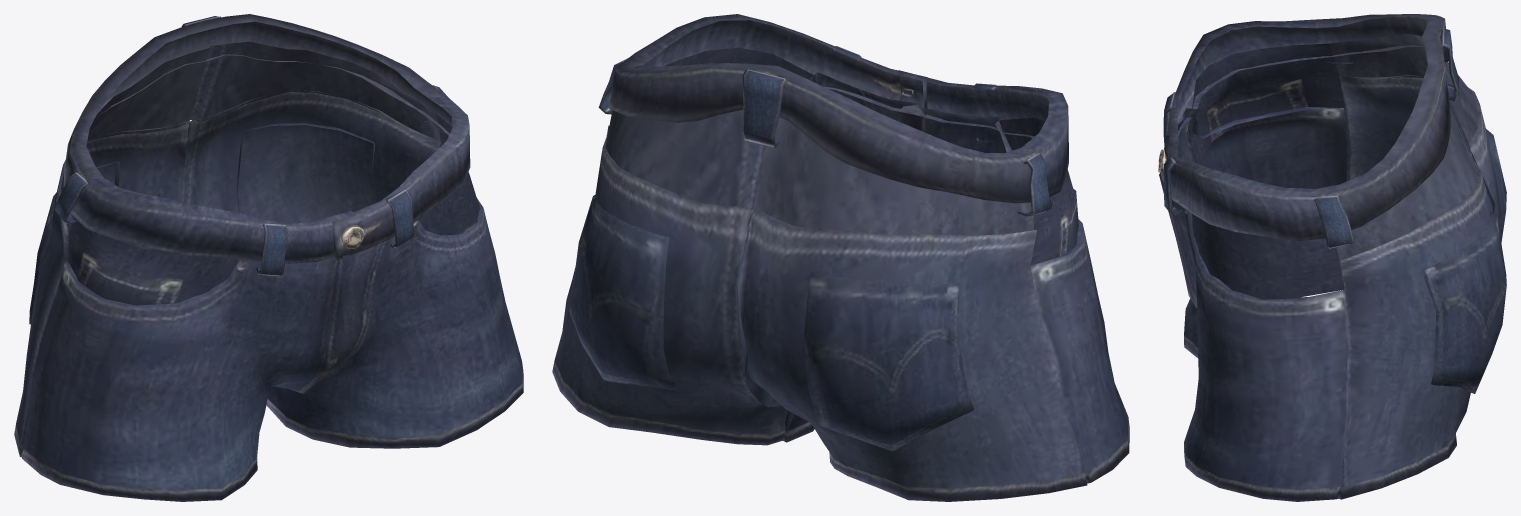
The model's file is punkduck-female-short-jeans.glb.
The picture shows the model from 3 angles, left to right: view 1: azimuth 30°, elevation 25°; view 2: azimuth 150°, elevation 25°; view 3: azimuth 270°, elevation 25°; orthographic projection. The views are drawn at different scales.
Visible parts, largest first — view 1: Human.punkduck_female_short_jeans; view 2: Human.punkduck_female_short_jeans; view 3: Human.punkduck_female_short_jeans.
Part boxes in pixels (x1,y1,x2,y2): Human.punkduck_female_short_jeans: (14,14,523,501); Human.punkduck_female_short_jeans: (552,14,1129,501); Human.punkduck_female_short_jeans: (1158,14,1506,501).
Bounding box in the file's own units: 0.4116 × 0.3093 × 0.2617.
1 material, 1 textured.
